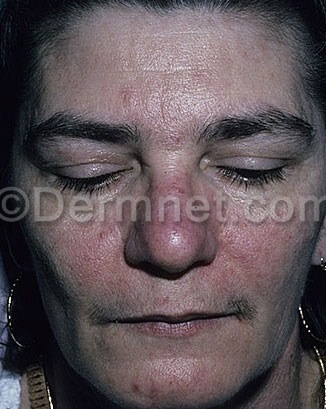Acne: (58, 186, 296, 282)
